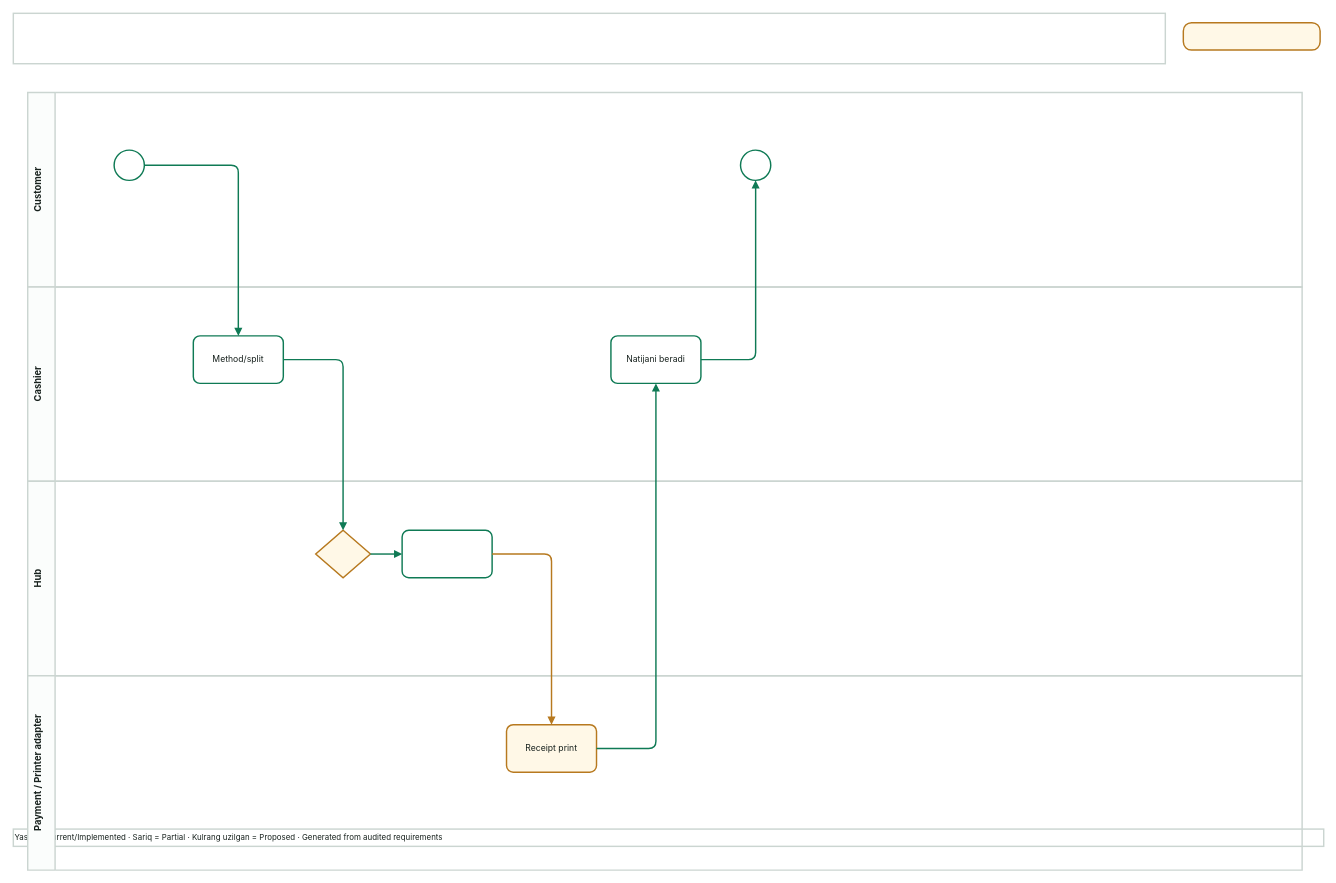
Image size: 1336x883. Some labels were removed from this diagram. The centre of each missing label's shape, as x and y in pixels:
"Current + Partial" belongs at pixel 1251 36.
"D26 · Payment Receipt BPMN 2.0 · osonCafe SDLC" belongs at pixel 589 38.
"Idempotent commit" belongs at pixel 446 553.
"Summa to‘g‘rimi?" belongs at pixel 343 553.
